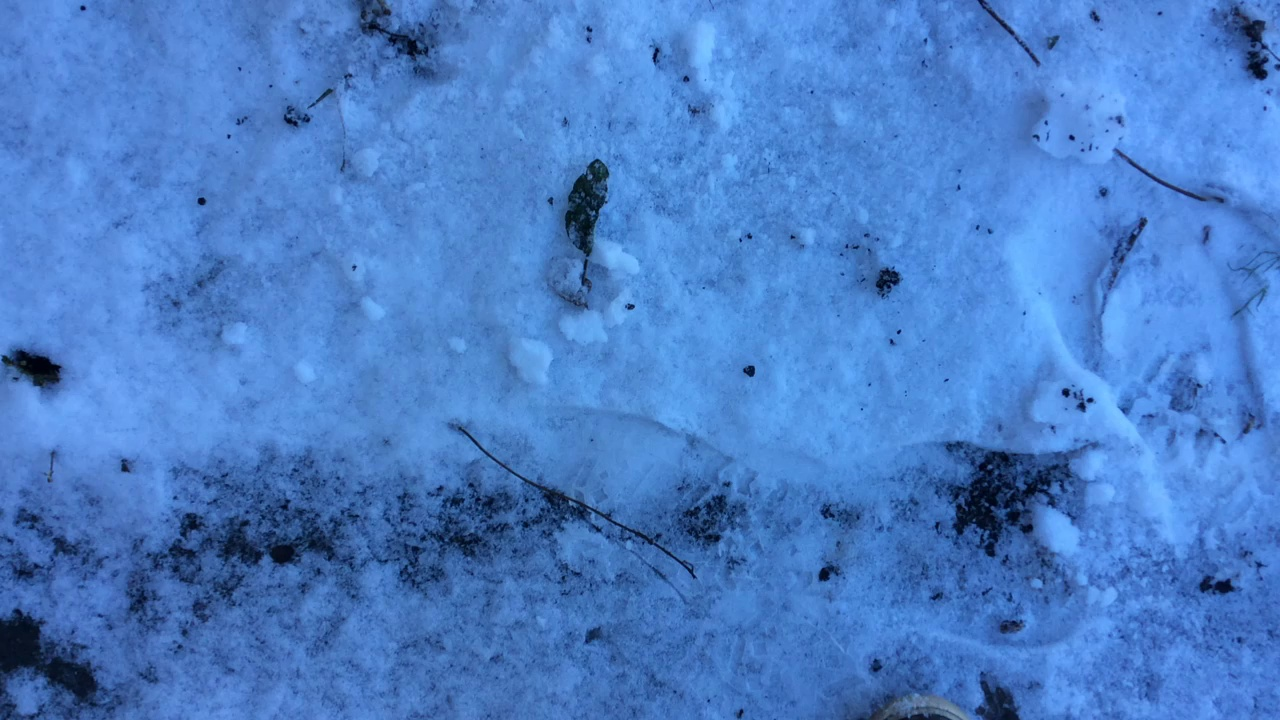root: (562, 277, 596, 311)
rumex: (558, 154, 618, 295)
